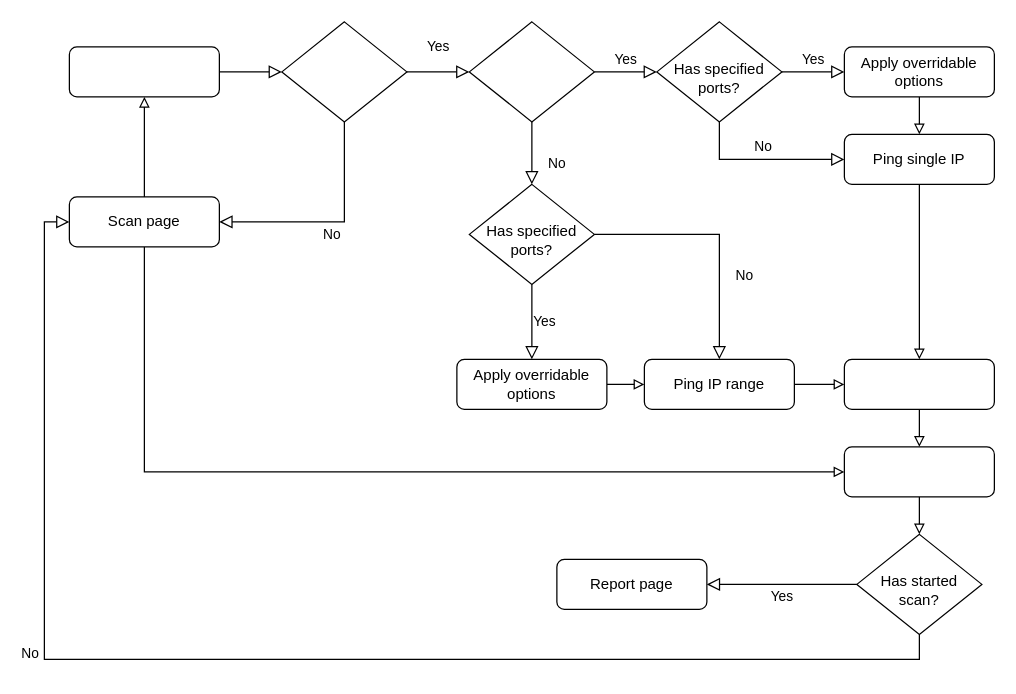
The diagram is 1016 pixels wide and 694 high, and some of its shapes have lost their labels. Each missing label, with the centre of its shape:
Are fields filled in?: the point at 344,71
Redirect report page: the point at 918,471
Single IP?: the point at 531,71
Start scan: the point at 143,71
Write report: the point at 918,383
